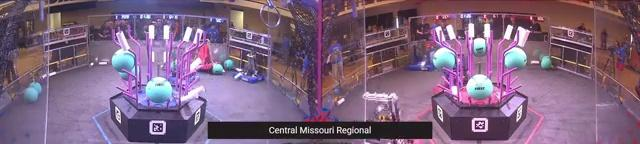reef: (112, 21, 207, 142), (430, 23, 528, 140)
robot: (362, 91, 403, 124), (236, 48, 264, 85), (408, 43, 436, 74), (194, 42, 221, 73)
